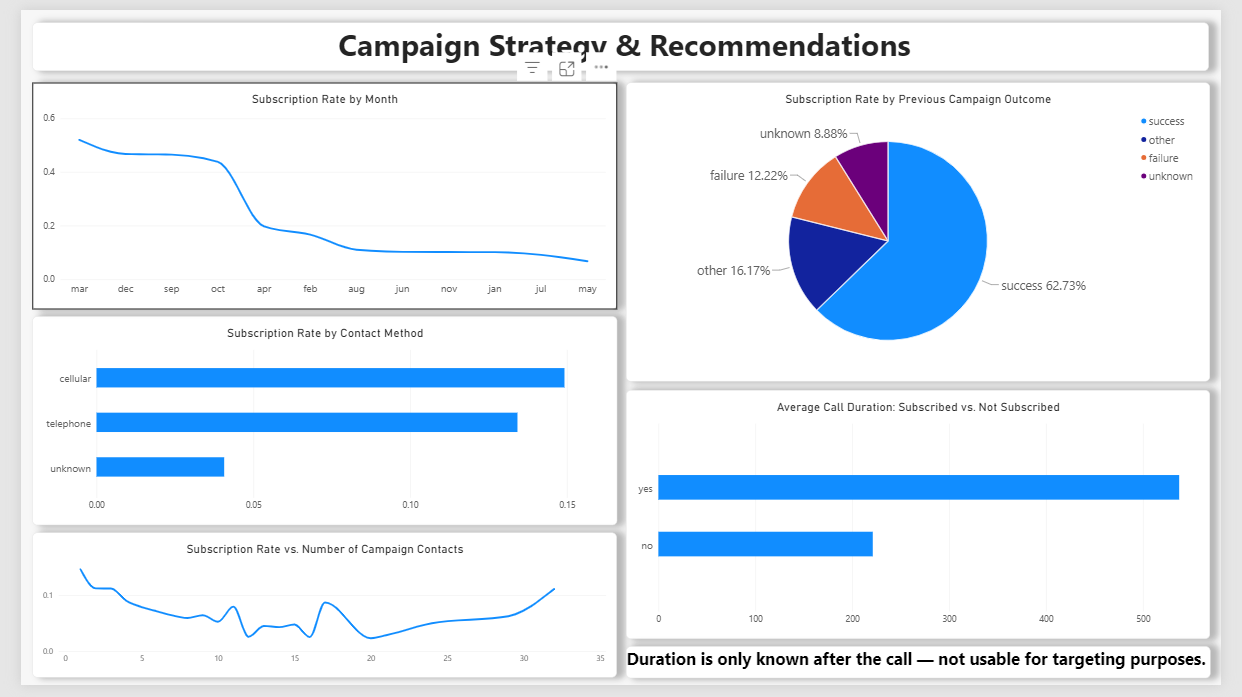

What the dashboard file says about the page in this screenshot:
{"tool":"powerbi","page":{"name":"Page 2","canvas":[1920,1080],"ordinal":1},"visuals":[{"type":"textbox","box":[17.5,20,1882.5,77.5],"z":0},{"type":"barChart","title":"Subscription Rate by Contact Method","fields":{"Category":["marketdatabase.contact"],"Y":["marketdatabase.subscription_rate"]},"box":[17.5,490,936,334],"z":1000},{"type":"lineChart","title":"Subscription Rate by Month","fields":{"Category":["marketdatabase.month"],"Y":["marketdatabase.subscription_rate"]},"box":[18,116,935,363],"z":2000},{"type":"lineChart","title":"Subscription Rate vs. Number of Campaign Contacts","fields":{"Category":["marketdatabase.campaign"],"Y":["marketdatabase.subscription_rate"]},"box":[17.8,836.7,935.6,232.2],"z":3000},{"type":"pieChart","title":"Subscription Rate by Previous Campaign Outcome","fields":{"Category":["marketdatabase.poutcome"],"Y":["marketdatabase.subscription_rate"]},"box":[968,116,934,478],"z":4000},{"type":"barChart","title":"Average Call Duration: Subscribed vs. Not Subscribed","fields":{"Category":["marketdatabase.y"],"Y":["marketdatabase.avg_call_duaration"]},"box":[968,608,934,398],"z":5000},{"type":"textbox","box":[967.5,1017.5,935,51.2],"z":6000}]}

Visuals, with their boxes in screenshot pixels (x1, y1, x2, y2), scaled from the page's 1920x1080 canvas onto the 1242x697 screenshot:
textbox: x1=11, y1=13, x2=1229, y2=63
"Subscription Rate by Contact Method" barChart: x1=11, y1=316, x2=617, y2=532
"Subscription Rate by Month" lineChart: x1=12, y1=75, x2=616, y2=309
"Subscription Rate vs. Number of Campaign Contacts" lineChart: x1=12, y1=540, x2=617, y2=690
"Subscription Rate by Previous Campaign Outcome" pieChart: x1=626, y1=75, x2=1230, y2=383
"Average Call Duration: Subscribed vs. Not Subscribed" barChart: x1=626, y1=392, x2=1230, y2=649
textbox: x1=626, y1=657, x2=1231, y2=690
